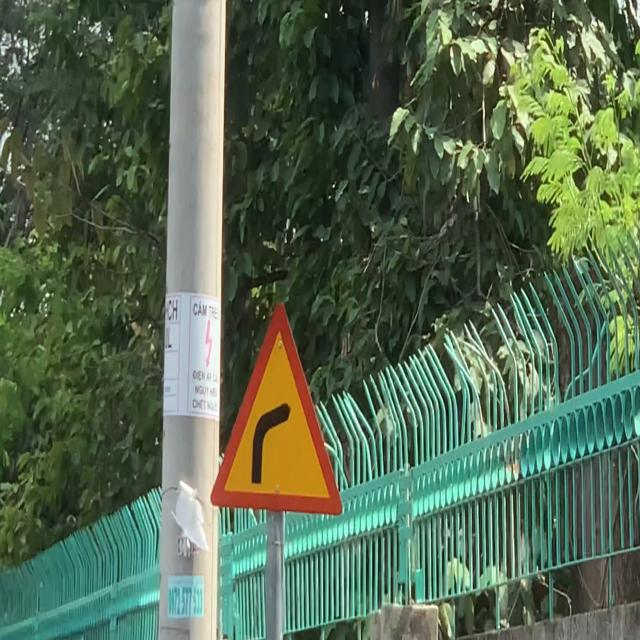Nguy hiem: (208, 298, 346, 518)
